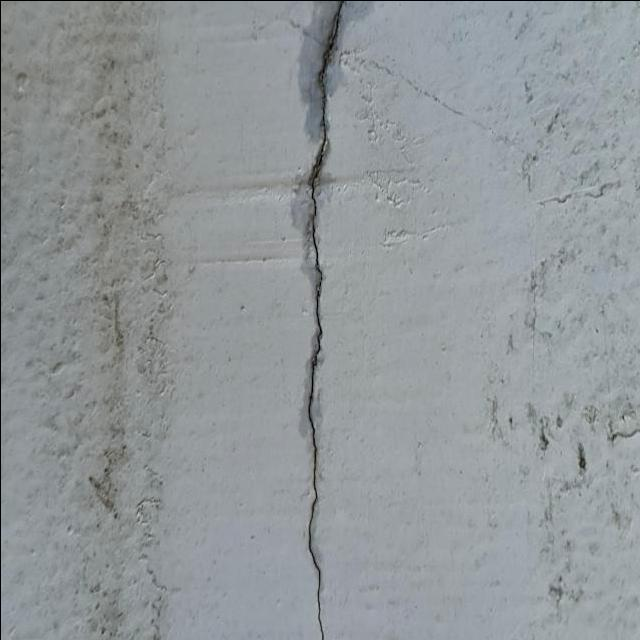SurfaceCrack: (259, 0, 388, 640)
